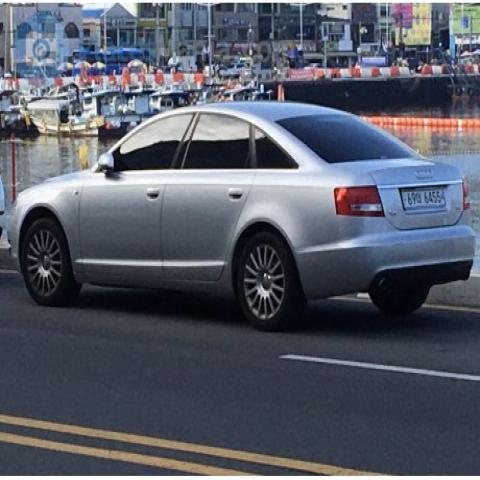LP: (395, 182, 453, 214)
